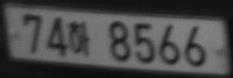4: (46, 16, 69, 56)
5: (134, 22, 155, 63)
6: (184, 25, 207, 67), (158, 24, 181, 65)
7: (22, 14, 42, 53)
8: (108, 20, 131, 62)
하: (69, 20, 90, 57)
